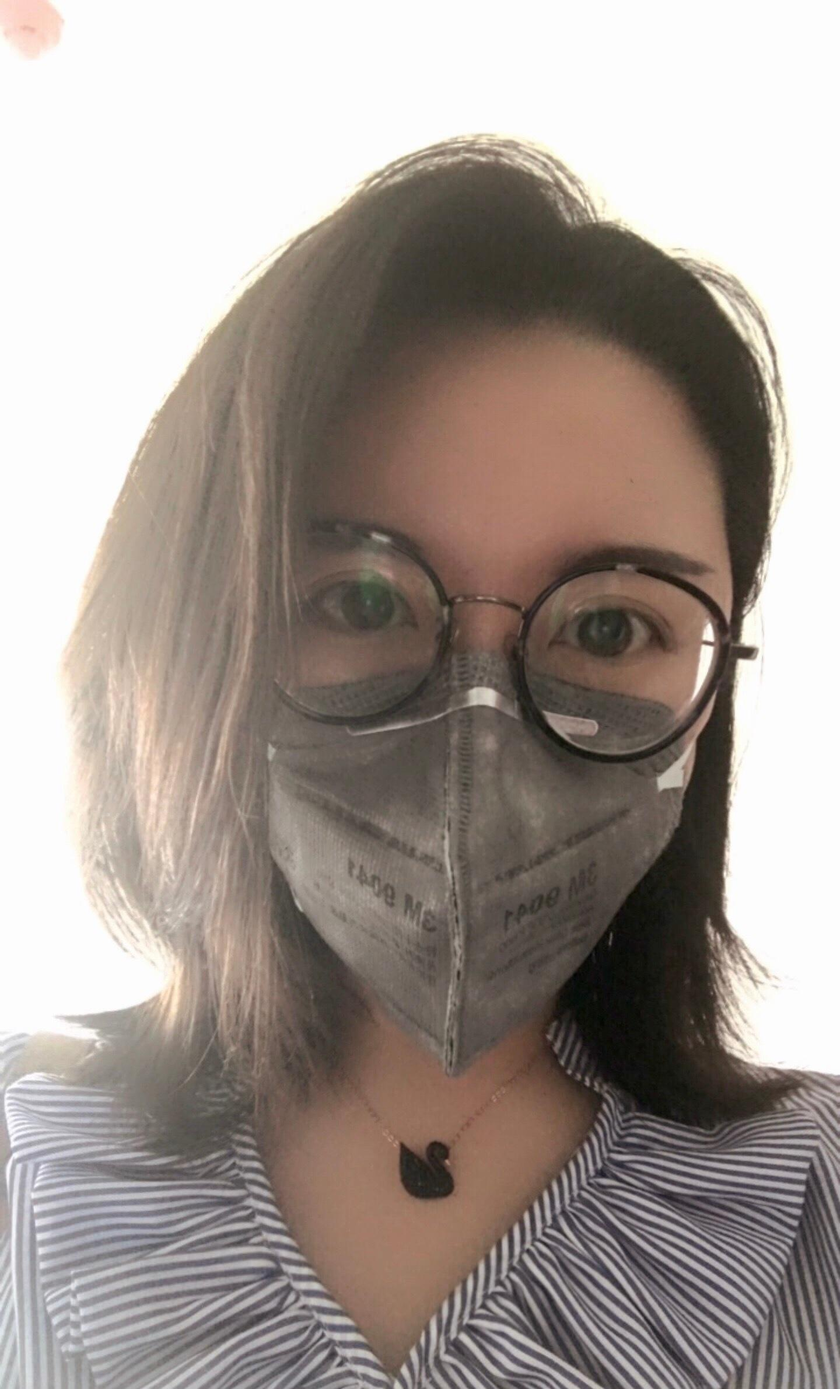OK: (176, 459, 766, 1050)
